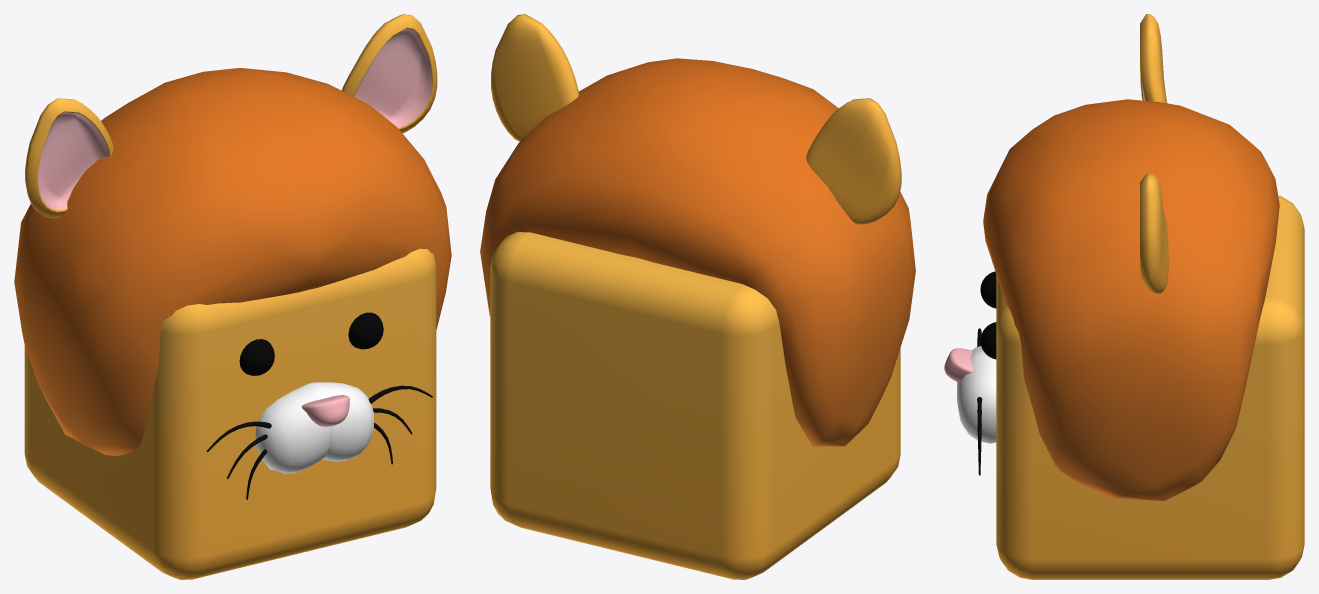
File: Lion.fbx
The picture shows the model from 3 angles, left to right: view 1: azimuth 30°, elevation 25°; view 2: azimuth 150°, elevation 25°; view 3: azimuth 270°, elevation 25°; orthographic projection. The views are drawn at different scales.
Parts seen in each view (by area): view 1: Lion; view 2: Lion; view 3: Lion.
Part boxes in pixels (x1,y1,x2,y2): Lion: (14, 14, 451, 579); Lion: (480, 14, 915, 579); Lion: (944, 14, 1304, 579).
Size of the model in its own units: 1.47 by 1.54 by 1.17.
